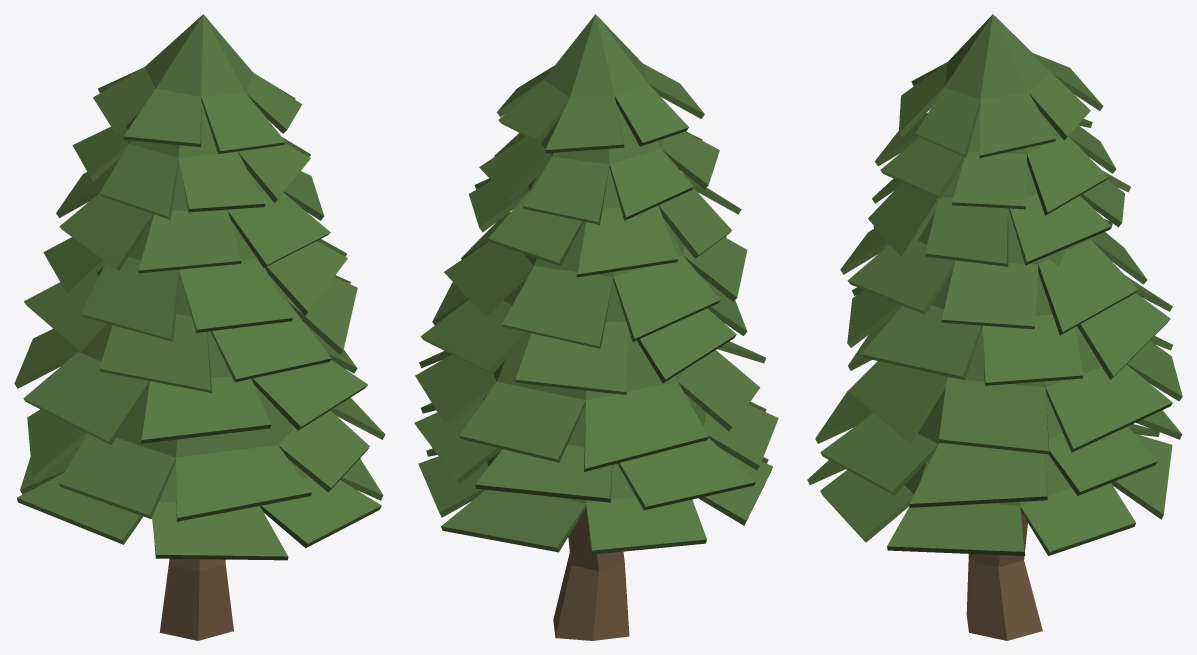
Rendered from tree1.fbx.
3 views of the same model, side by side, from view 1: azimuth 30°, elevation 25°; view 2: azimuth 150°, elevation 25°; view 3: azimuth 270°, elevation 25° (orthographic).
Visible parts, largest first — view 1: Cone.007; view 2: Cone.007; view 3: Cone.007.
Part boxes in pixels (x1=…): Cone.007: x1=14, y1=14, x2=385, y2=640; Cone.007: x1=414, y1=14, x2=778, y2=640; Cone.007: x1=807, y1=14, x2=1182, y2=640.
Bounding box in the file's own units: 182 × 330 × 184.
